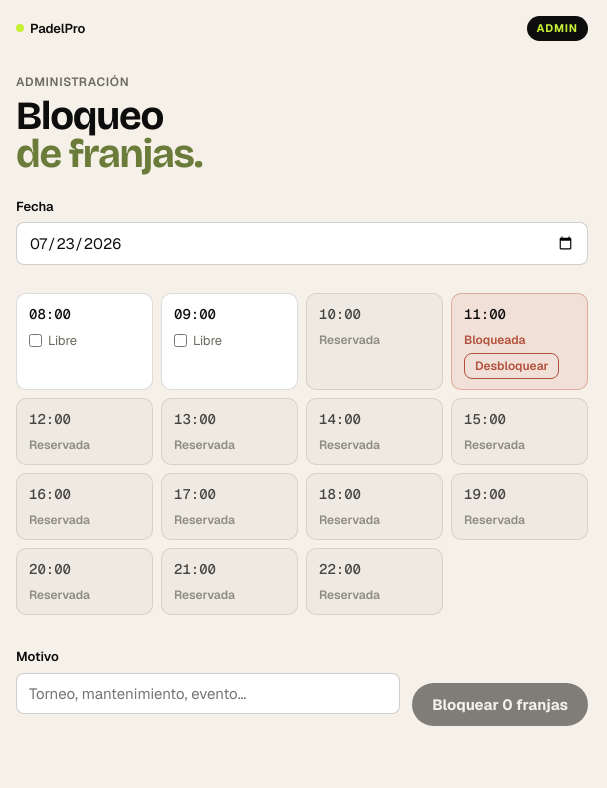
Test: BloqueosPage › exige motivo antes de bloquear
The width and height of the screenshot is (607, 788).
Check: the text "08:00" is shown, box [29,305,71,323]
Step 1. Click the checkbox labelled "Libre" below "08:00" → click(36, 341), box [29,334,42,347]
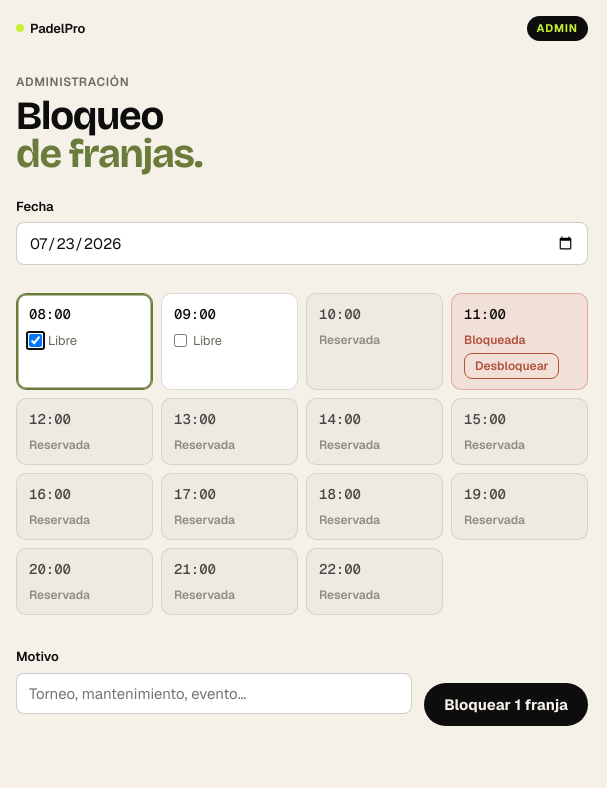
Step 2. Click the button "Bloquear 1 franja" → click(506, 704), box [424,682,588,726]
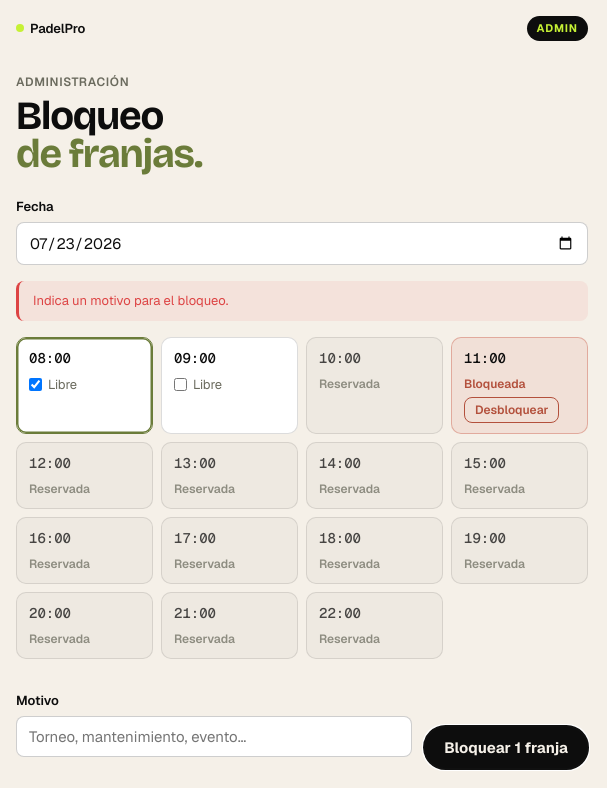
Check: the message shows "motivo", box [33,292,228,309]
